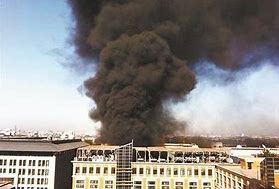smoke: (69, 1, 279, 138)
